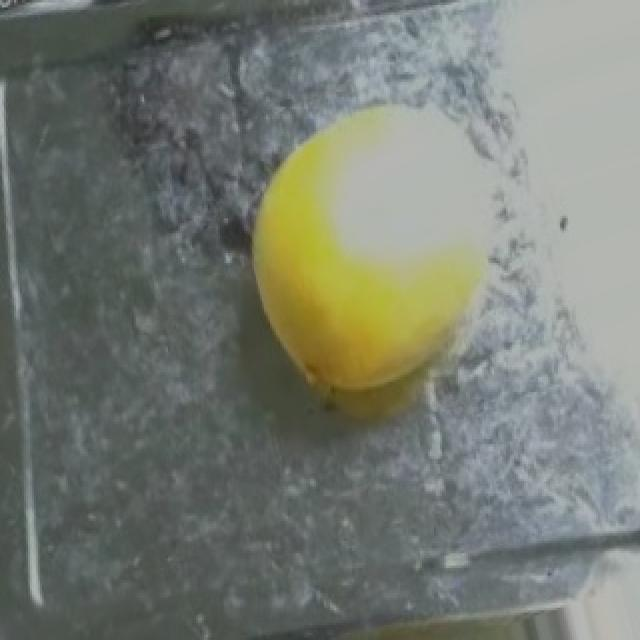fruit: (222, 82, 542, 436)
